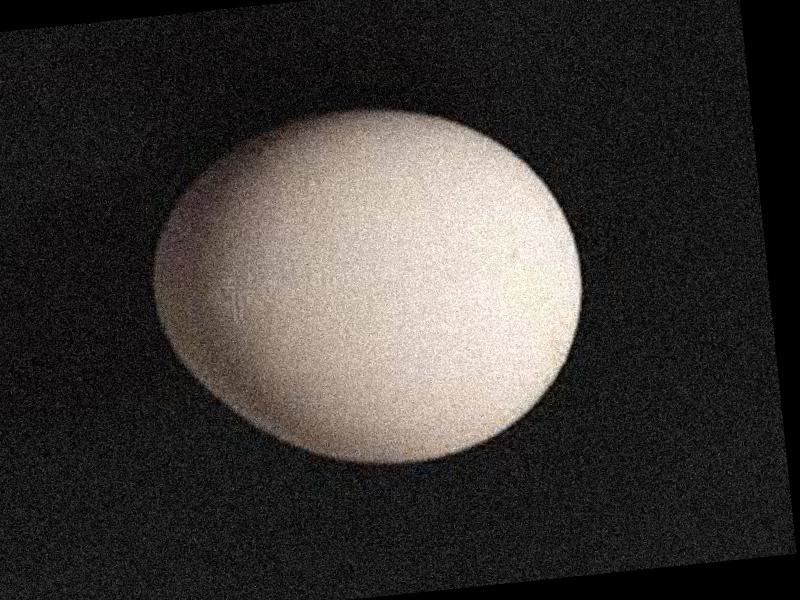Eggs: (140, 92, 601, 484)
